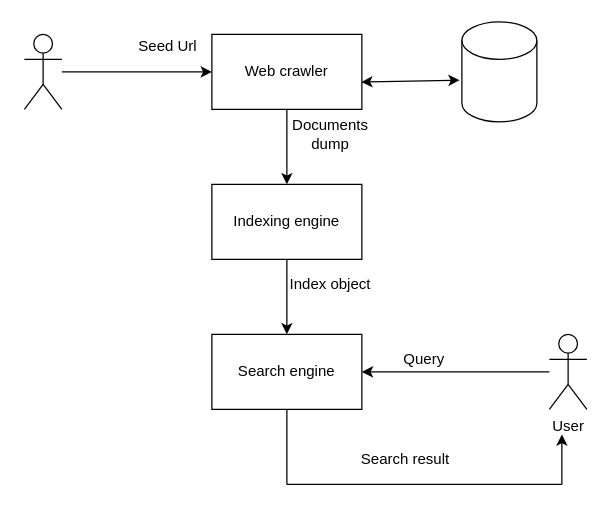
The diagram is 609 pixels wide and 516 high, and some of its shapes have lost their labels. The shapes that lost their labels are listed below. From the top down, each one's centre as x and y in pixels, then its label:
At point 42,71: "Admin".
At point 499,71: "Web server".
